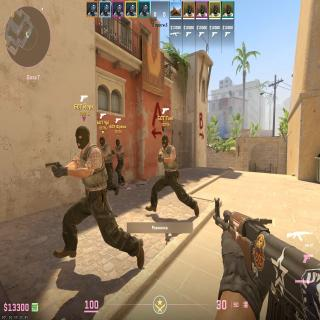T-Body: (74, 126, 108, 247), (158, 134, 179, 206), (99, 137, 114, 186), (114, 139, 124, 182)
T-Head: (76, 126, 90, 150), (162, 134, 168, 148), (100, 136, 106, 146), (116, 139, 120, 147)
